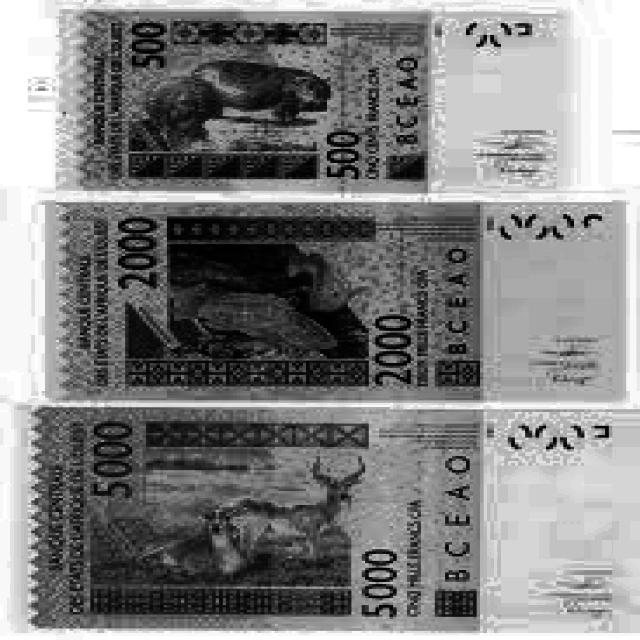junni: (35, 411, 633, 629)
nient teemeer: (58, 204, 618, 397)
teemeer: (67, 11, 557, 186)
